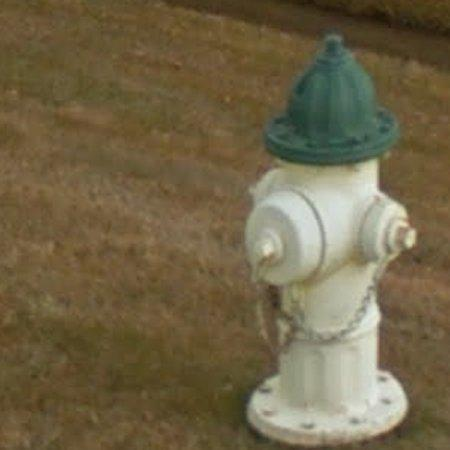a fire hydrant: (246, 33, 418, 446)
